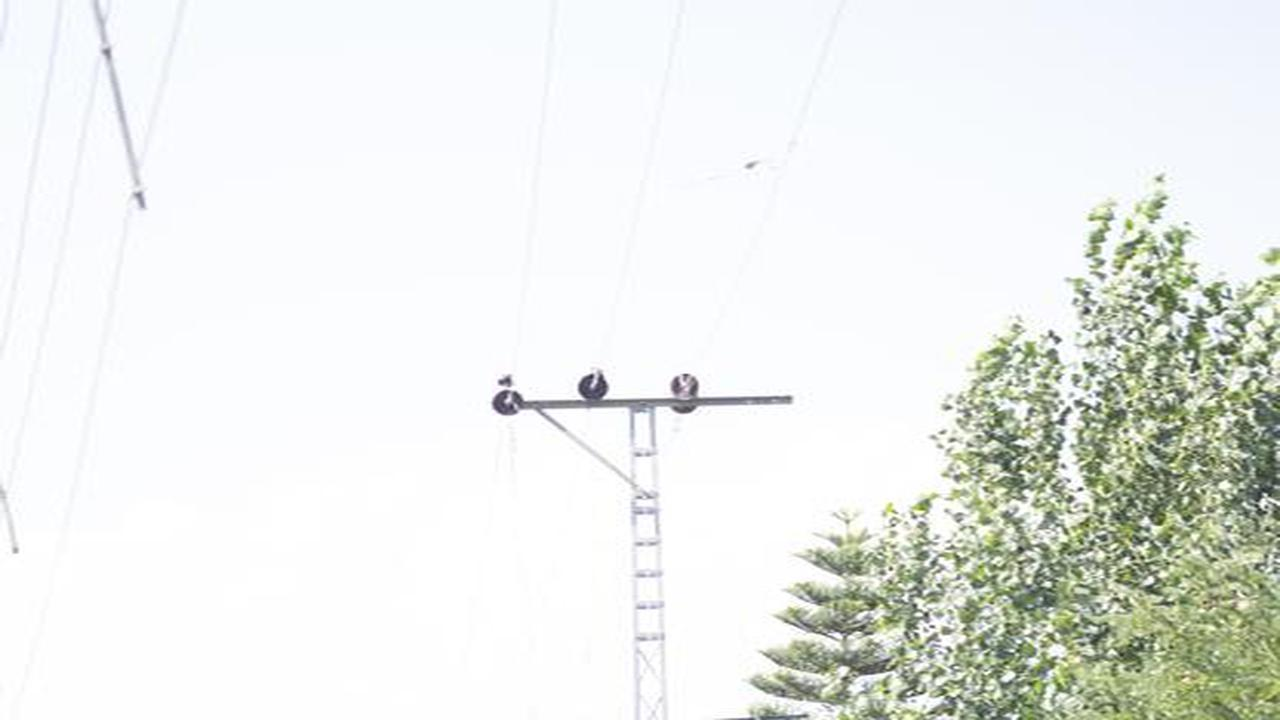insulator_disc: (572, 369, 615, 405), (666, 371, 709, 404), (492, 390, 527, 420)
